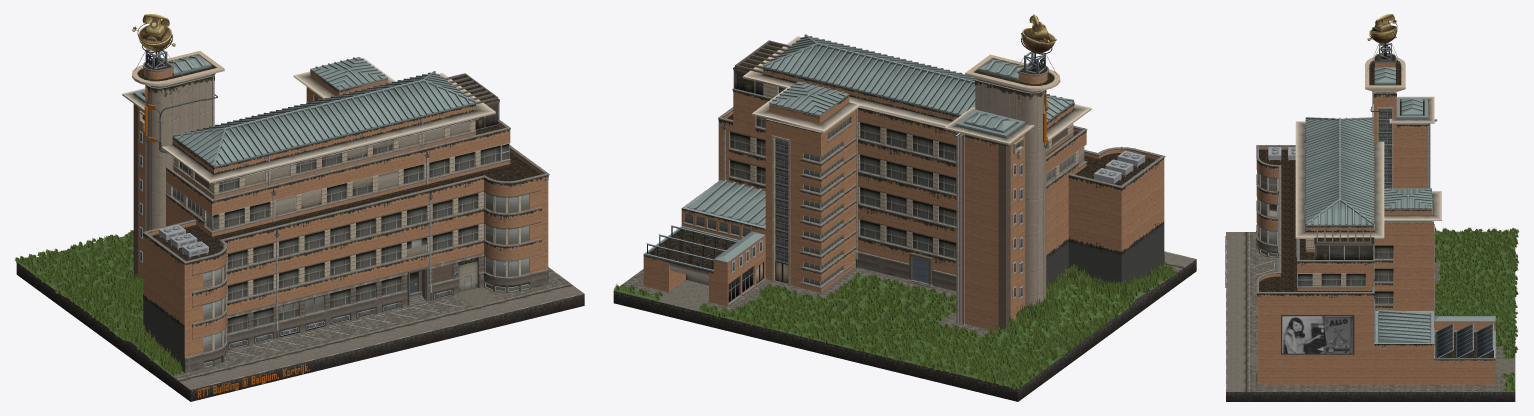
Rendered from RTT_Building_A.fbx.
3 renders of one model, left to right at view 1: azimuth 30°, elevation 25°; view 2: azimuth 150°, elevation 25°; view 3: azimuth 270°, elevation 25°, orthographic. The views are drawn at different scales.
Visible parts, largest first — view 1: Trims_Roofs, Walls, Windows_Doors_Details, Ground, Grass_CastSh, Dirt_CastNoSh; view 2: Walls, Trims_Roofs, Grass_CastSh, Windows_Doors_Details, Ground, Dirt_CastNoSh; view 3: Walls, Trims_Roofs, Ground, Windows_Doors_Details, Grass_CastSh, Dirt_CastNoSh.
Part boxes in pixels (x1,y1,x2,y2): Trims_Roofs: (122, 51, 549, 373); Walls: (133, 55, 548, 372); Windows_Doors_Details: (132, 14, 529, 397); Ground: (16, 236, 584, 401); Grass_CastSh: (14, 118, 546, 375); Dirt_CastNoSh: (143, 75, 575, 384); Walls: (643, 43, 1164, 330); Trims_Roofs: (643, 34, 1165, 305); Grass_CastSh: (613, 259, 1177, 389); Windows_Doors_Details: (646, 14, 1145, 324); Ground: (613, 251, 1196, 401); Dirt_CastNoSh: (643, 68, 1175, 274); Walls: (1256, 54, 1495, 384); Trims_Roofs: (1256, 53, 1495, 384); Ground: (1226, 231, 1515, 401); Windows_Doors_Details: (1225, 14, 1493, 357); Grass_CastSh: (1255, 227, 1519, 391); Dirt_CastNoSh: (1226, 93, 1495, 388).
Size of the model in its own units: 54.48 by 39.54 by 41.87.
